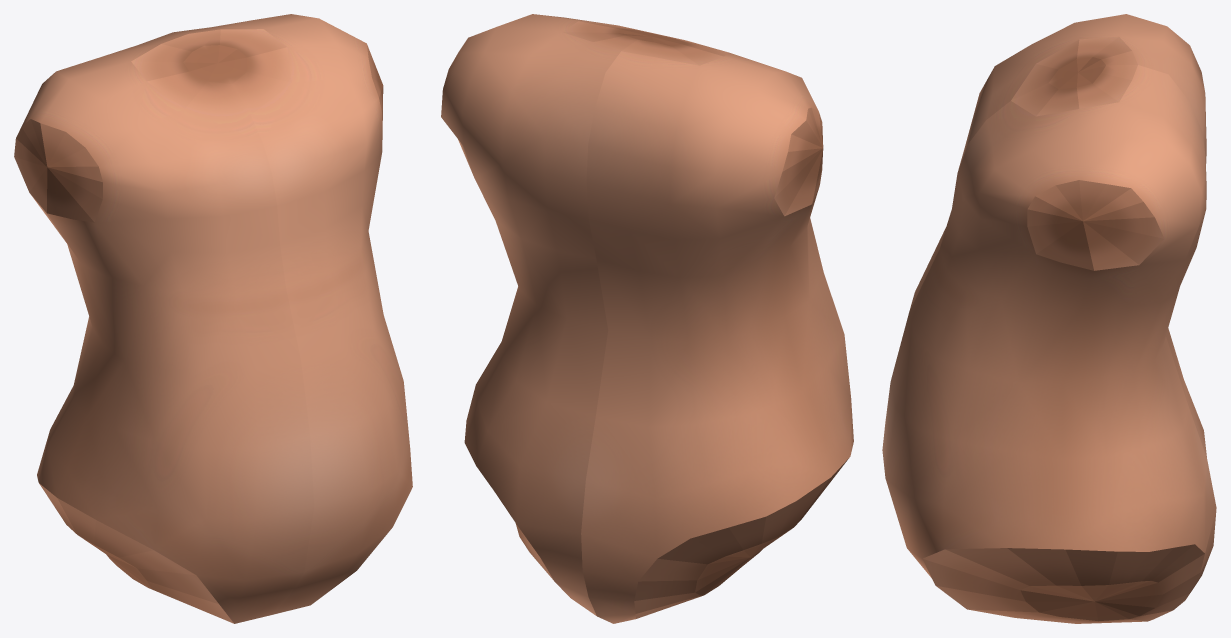
Rendered from torso.fbx.
The picture shows the model from 3 angles, left to right: view 1: azimuth 30°, elevation 25°; view 2: azimuth 150°, elevation 25°; view 3: azimuth 270°, elevation 25°; orthographic projection. The views are drawn at different scales.
Visible parts, largest first — view 1: torso; view 2: torso; view 3: torso.
Part boxes in pixels (<box>): torso: <box>14,14,412,623</box>; torso: <box>441,14,853,623</box>; torso: <box>882,14,1216,623</box>.
Bounding box in the file's own units: 46.34 × 72.38 × 39.4.
1 material, 1 textured.
